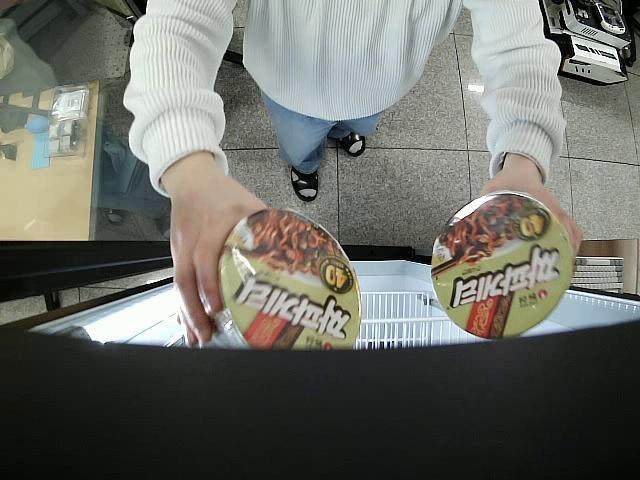03_chapagetti_L: (214, 206, 362, 353), (430, 191, 572, 336)
